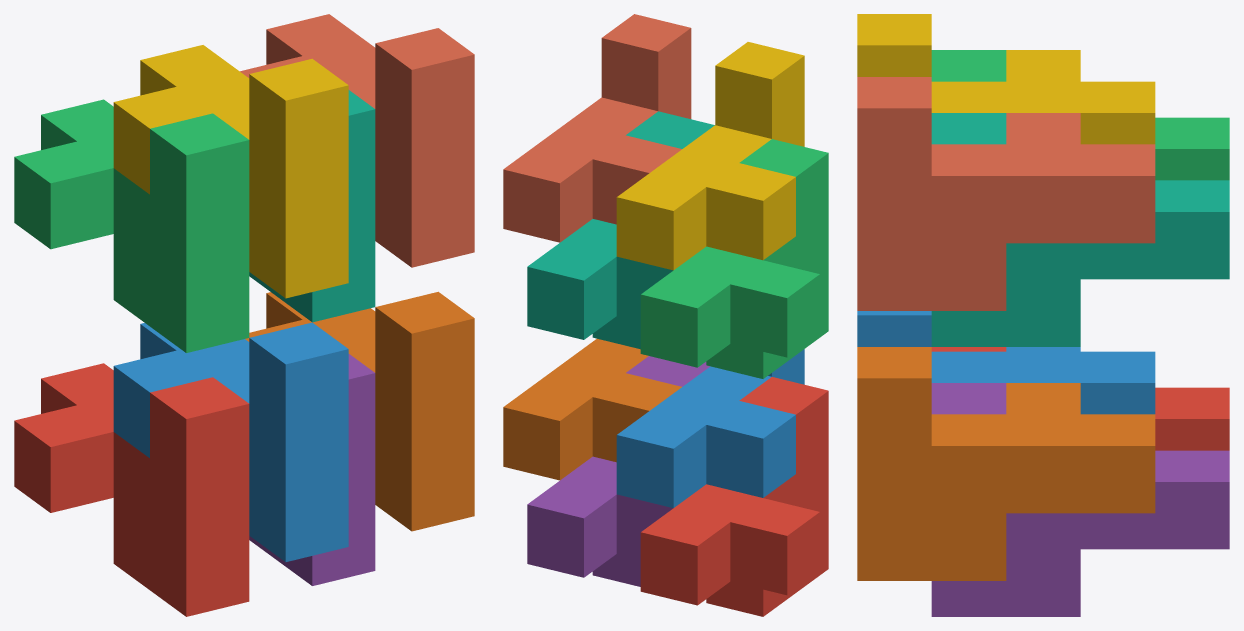
Rendered from tiling.obj.
3 views of the same model, side by side, from view 1: azimuth 30°, elevation 25°; view 2: azimuth 150°, elevation 25°; view 3: azimuth 270°, elevation 25° (orthographic). The views are drawn at different scales.
Visible parts, largest first — view 1: copy_1_domain_3, copy_1_domain_1, copy_1_domain_4, copy_1_domain_2, copy_1_domain_8, copy_1_domain_6, copy_1_domain_7, copy_1_domain_5; view 2: copy_1_domain_4, copy_1_domain_3, copy_1_domain_1, copy_1_domain_8, copy_1_domain_2, copy_1_domain_6, copy_1_domain_7, copy_1_domain_5; view 3: copy_1_domain_6, copy_1_domain_8, copy_1_domain_5, copy_1_domain_7, copy_1_domain_4, copy_1_domain_2, copy_1_domain_3, copy_1_domain_1.
Part boxes in pixels (<box>): copy_1_domain_3: <box>14,99,249,352</box>; copy_1_domain_1: <box>14,363,249,616</box>; copy_1_domain_4: <box>113,45,348,298</box>; copy_1_domain_2: <box>113,322,348,561</box>; copy_1_domain_8: <box>240,14,474,267</box>; copy_1_domain_6: <box>245,291,474,531</box>; copy_1_domain_7: <box>249,90,375,322</box>; copy_1_domain_5: <box>249,354,375,585</box>; copy_1_domain_4: <box>616,42,804,270</box>; copy_1_domain_3: <box>640,139,828,378</box>; copy_1_domain_1: <box>640,377,828,616</box>; copy_1_domain_8: <box>503,14,691,242</box>; copy_1_domain_2: <box>616,349,804,507</box>; copy_1_domain_6: <box>503,338,681,480</box>; copy_1_domain_7: <box>527,111,714,349</box>; copy_1_domain_5: <box>527,356,709,586</box>; copy_1_domain_6: <box>857,347,1155,580</box>; copy_1_domain_8: <box>857,77,1155,310</box>; copy_1_domain_5: <box>931,383,1229,616</box>; copy_1_domain_7: <box>931,113,1229,346</box>; copy_1_domain_4: <box>857,14,1155,144</box>; copy_1_domain_2: <box>857,311,1155,414</box>; copy_1_domain_3: <box>931,50,1229,180</box>; copy_1_domain_1: <box>931,347,1229,450</box>.
Size of the model in its own units: 5 by 8 by 5.
